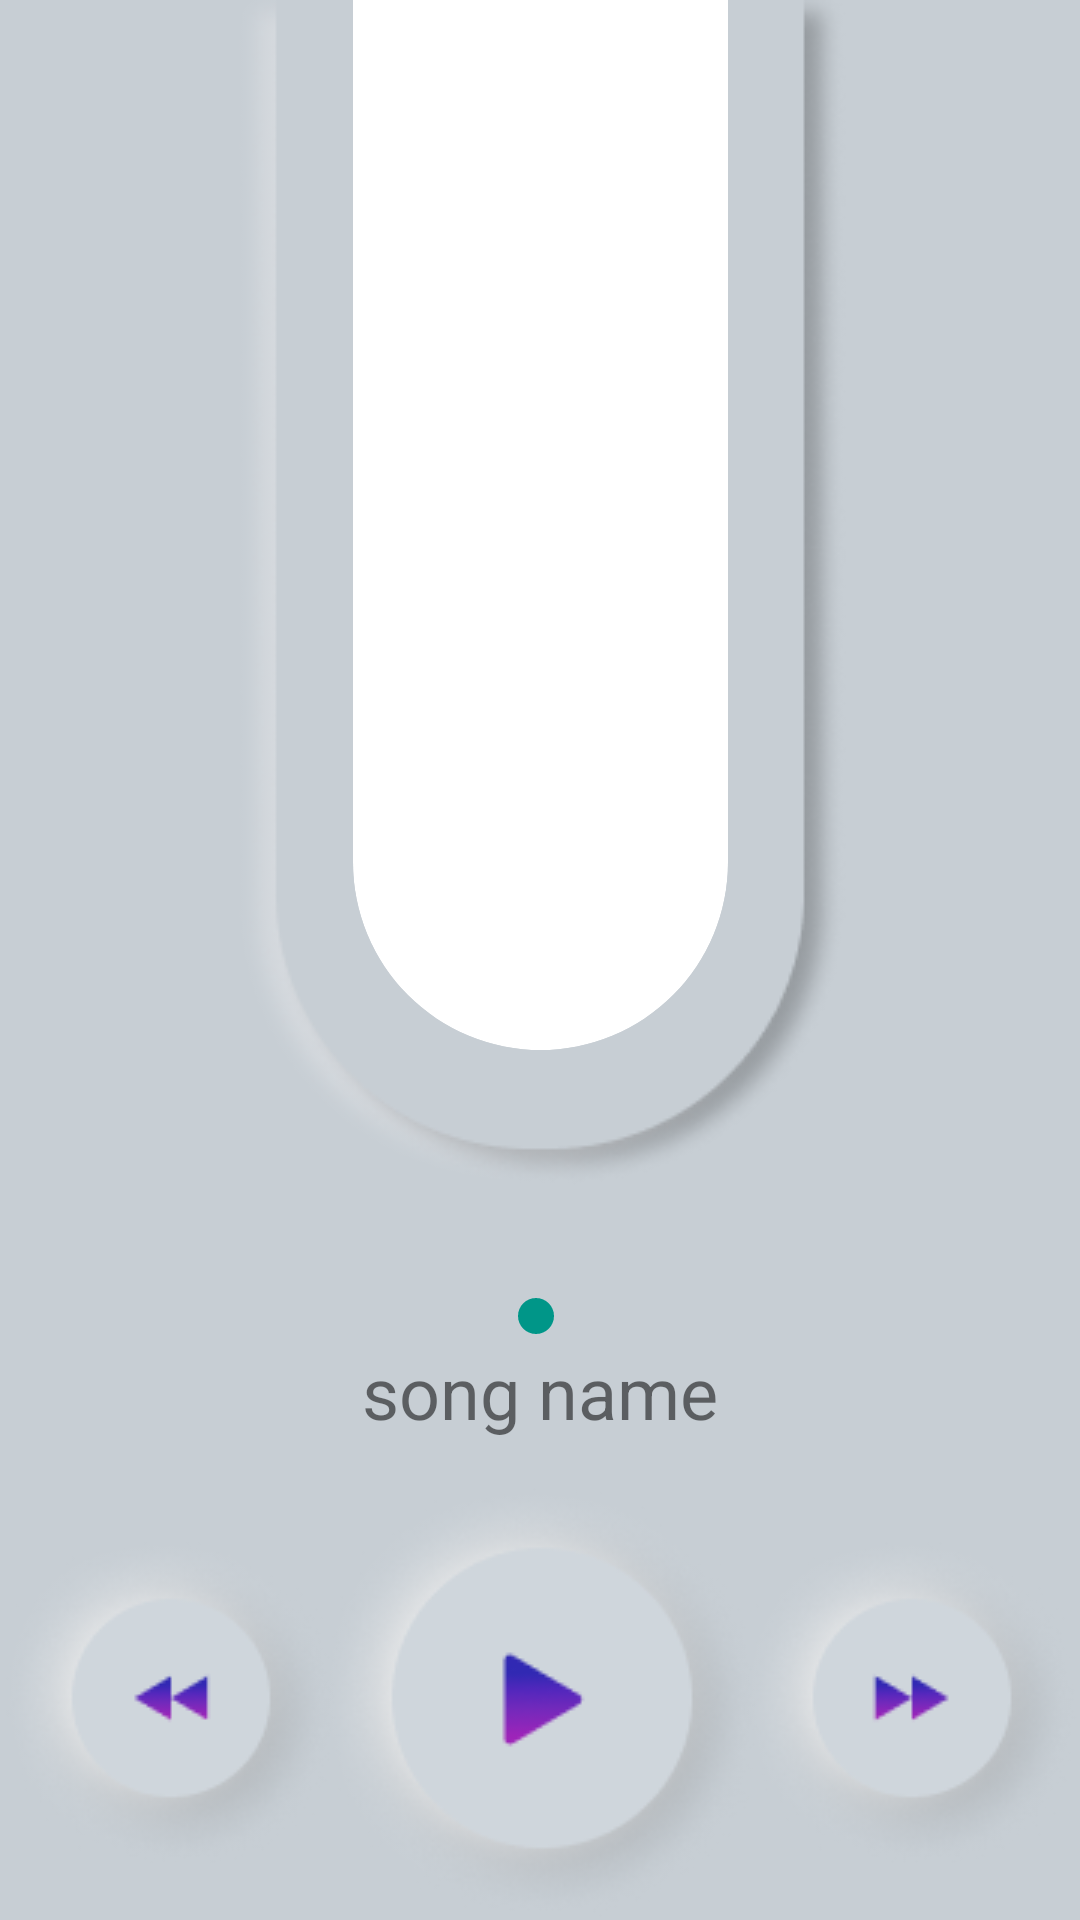

Icons on this 1080x1920 Android screen, each with its box as [x1, y1, x2, y2]:
nextbutton: [811, 1648, 948, 1720]
previusbutton: [135, 1676, 208, 1720]
